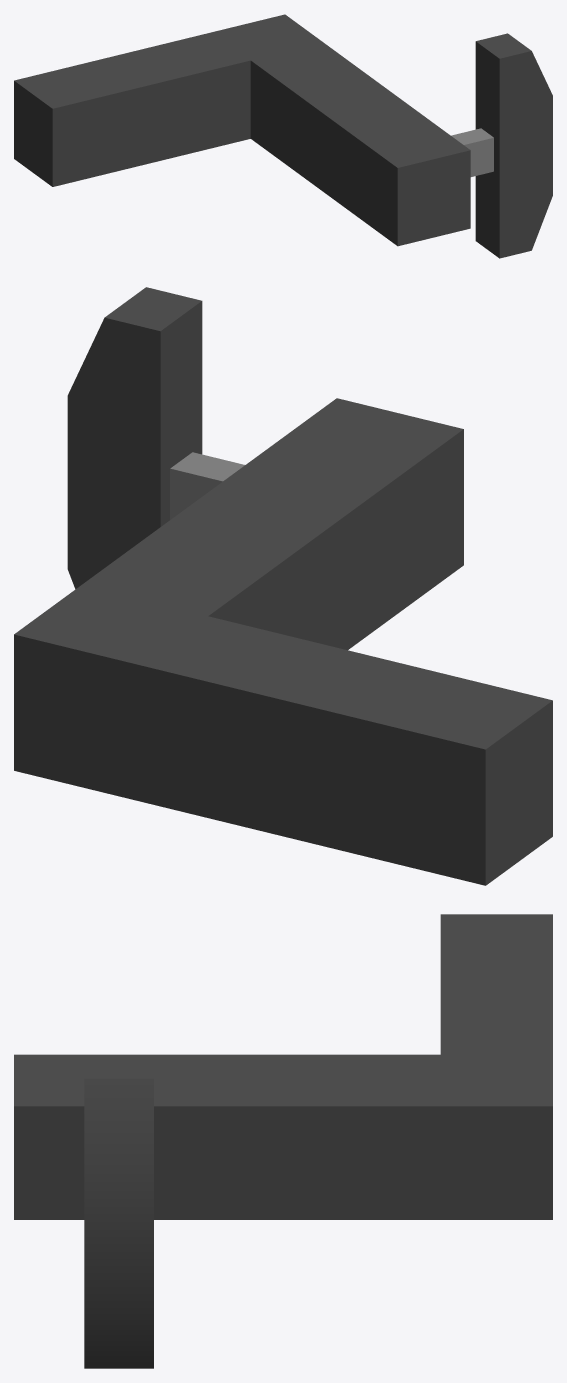
Rendered from rod_turner.FBX.
The picture shows the model from 3 angles, top to bottom: view 1: azimuth 30°, elevation 25°; view 2: azimuth 150°, elevation 25°; view 3: azimuth 270°, elevation 25°; orthographic projection. The views are drawn at different scales.
Visible parts, largest first — view 1: rod_turner; view 2: rod_turner; view 3: rod_turner.
Part boxes in pixels (box(x1,y1,x2,y2)): rod_turner: box(14, 14, 552, 258); rod_turner: box(14, 287, 552, 885); rod_turner: box(14, 914, 552, 1368).
Size of the model in its own units: 2.12 by 1.07 by 1.81.
